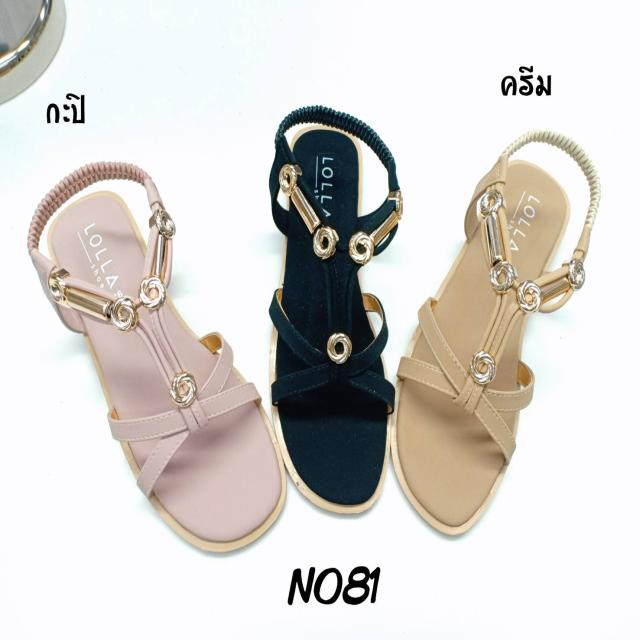black: (283, 121, 391, 508)
cream: (404, 162, 569, 518)
kapi: (50, 190, 281, 544)
